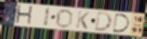D: (93, 10, 113, 32), (112, 13, 131, 34)
H: (14, 4, 34, 27)
I: (43, 7, 52, 28)
K: (75, 10, 91, 31)
O: (55, 8, 74, 29)
